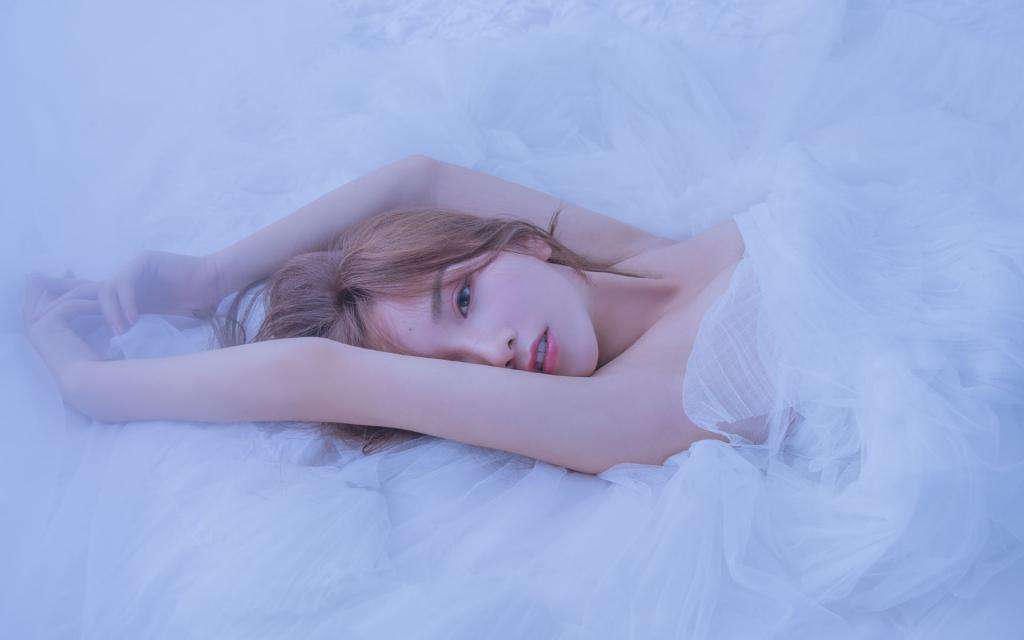person: (200, 101, 789, 459)
